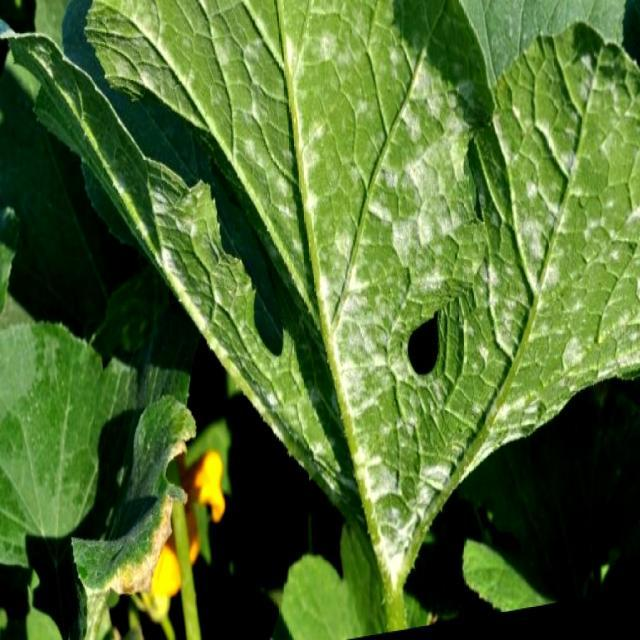Leaf_Mold: (86, 124, 575, 596), (286, 0, 497, 322), (471, 36, 638, 384), (160, 154, 330, 470), (156, 0, 328, 291)
